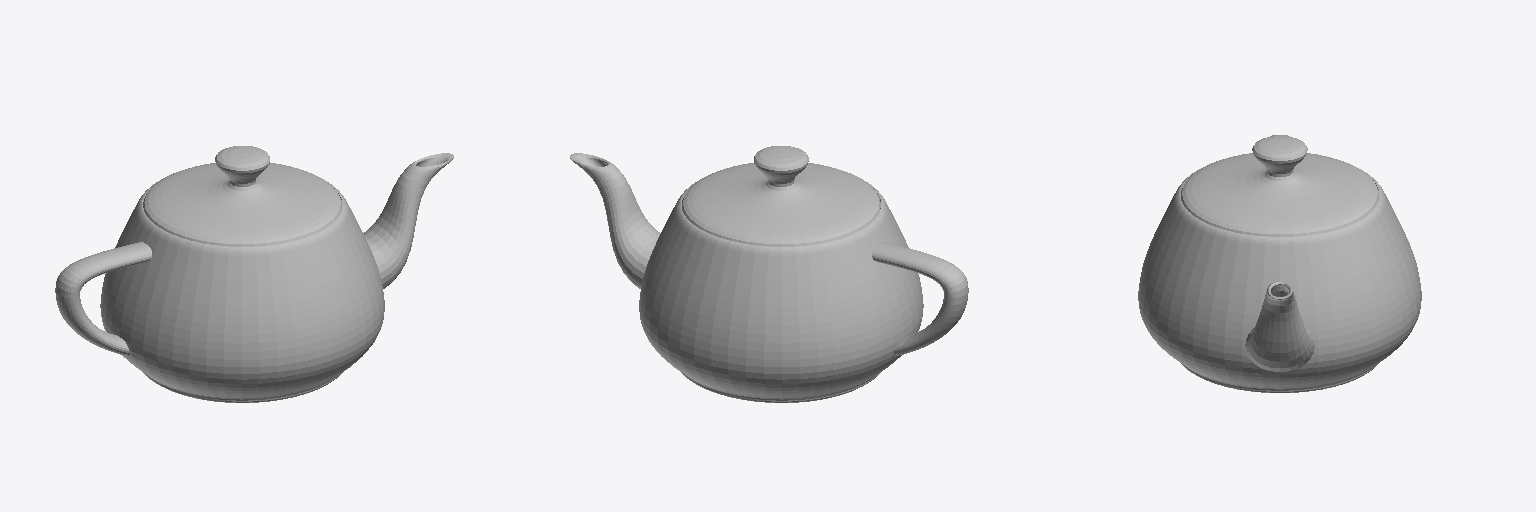
File: teapot.obj
The picture shows the model from 3 angles: view 1: azimuth 30°, elevation 25°; view 2: azimuth 150°, elevation 25°; view 3: azimuth 270°, elevation 25°; orthographic projection.
Parts seen in each view (by area): view 1: UtahTeapot_low; view 2: UtahTeapot_low; view 3: UtahTeapot_low.
Part boxes in pixels (x1,y1,x2,y2): UtahTeapot_low: (55,146,453,402); UtahTeapot_low: (570,146,968,402); UtahTeapot_low: (1138,135,1421,392).
Size of the model in its own units: 4.88 by 2.5 by 3.03.